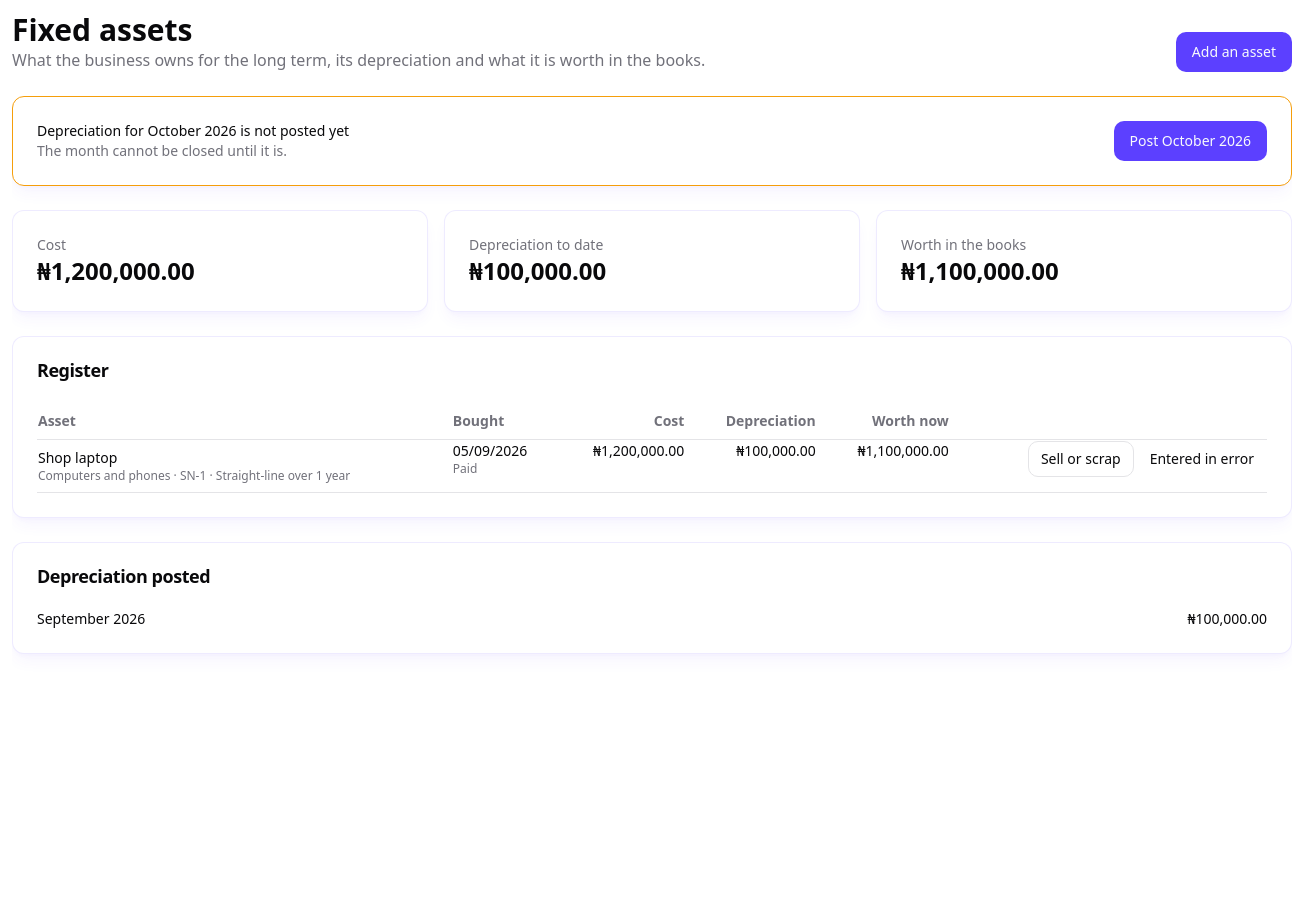
Test case: the owner removes an asset entered in error, with a reason
Click the button "Entered in error" at (1202, 459), box [1138,441,1266,477]
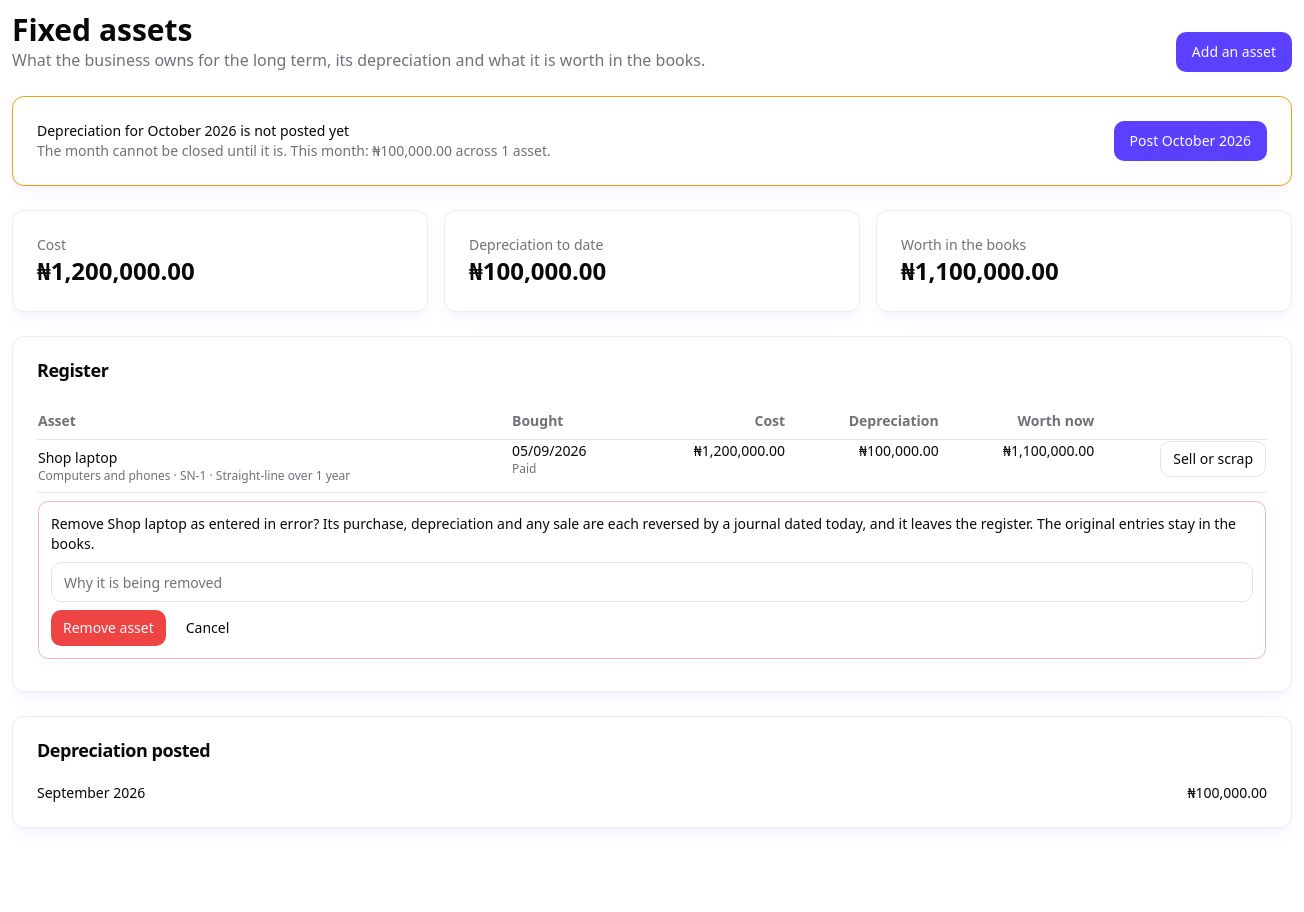
Type "Entered twice" into the field labelled "Why it is being removed" at (652, 582), box [51,562,1253,602]
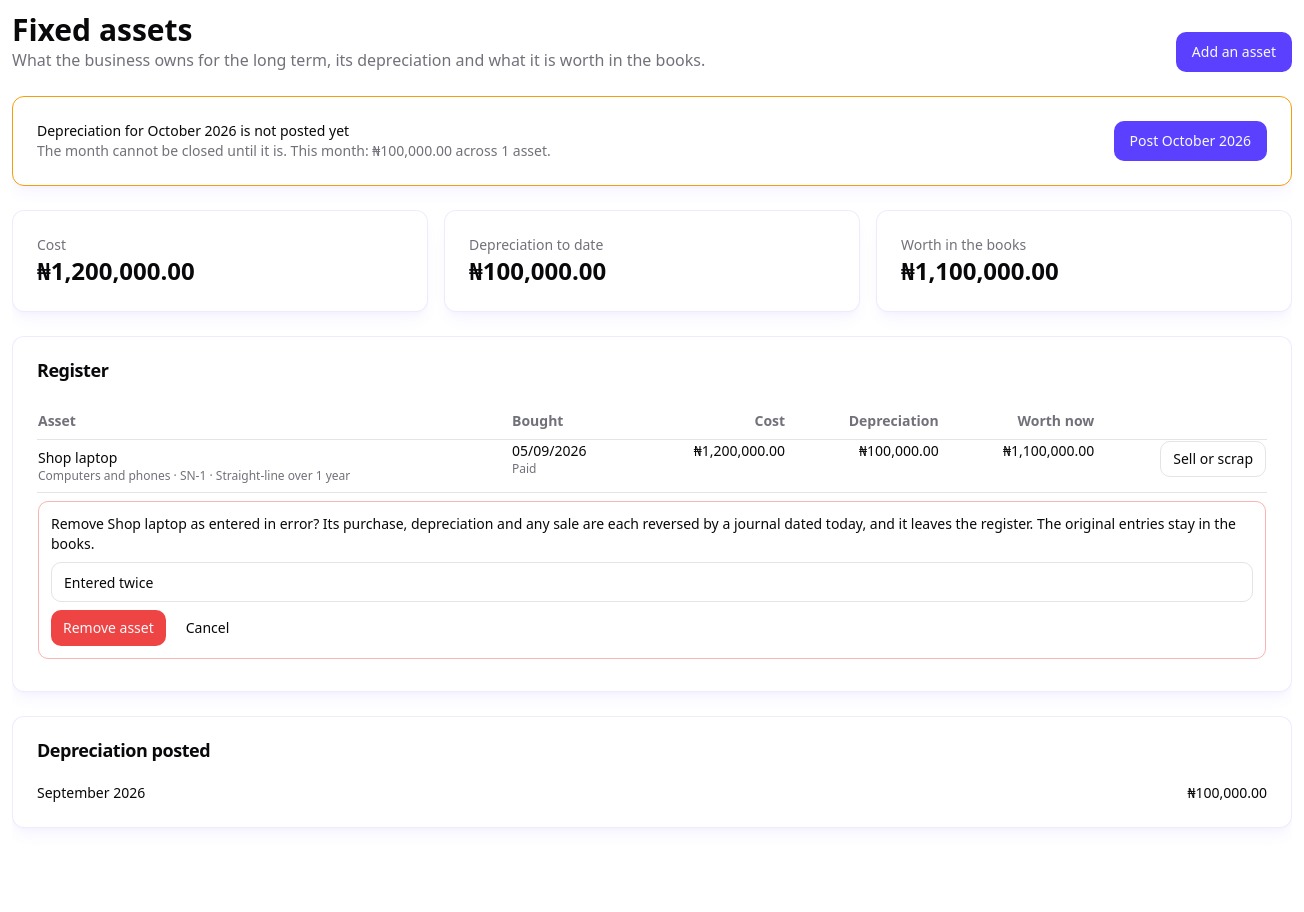
Click the button "Remove asset" at (108, 628), box [51,610,166,646]
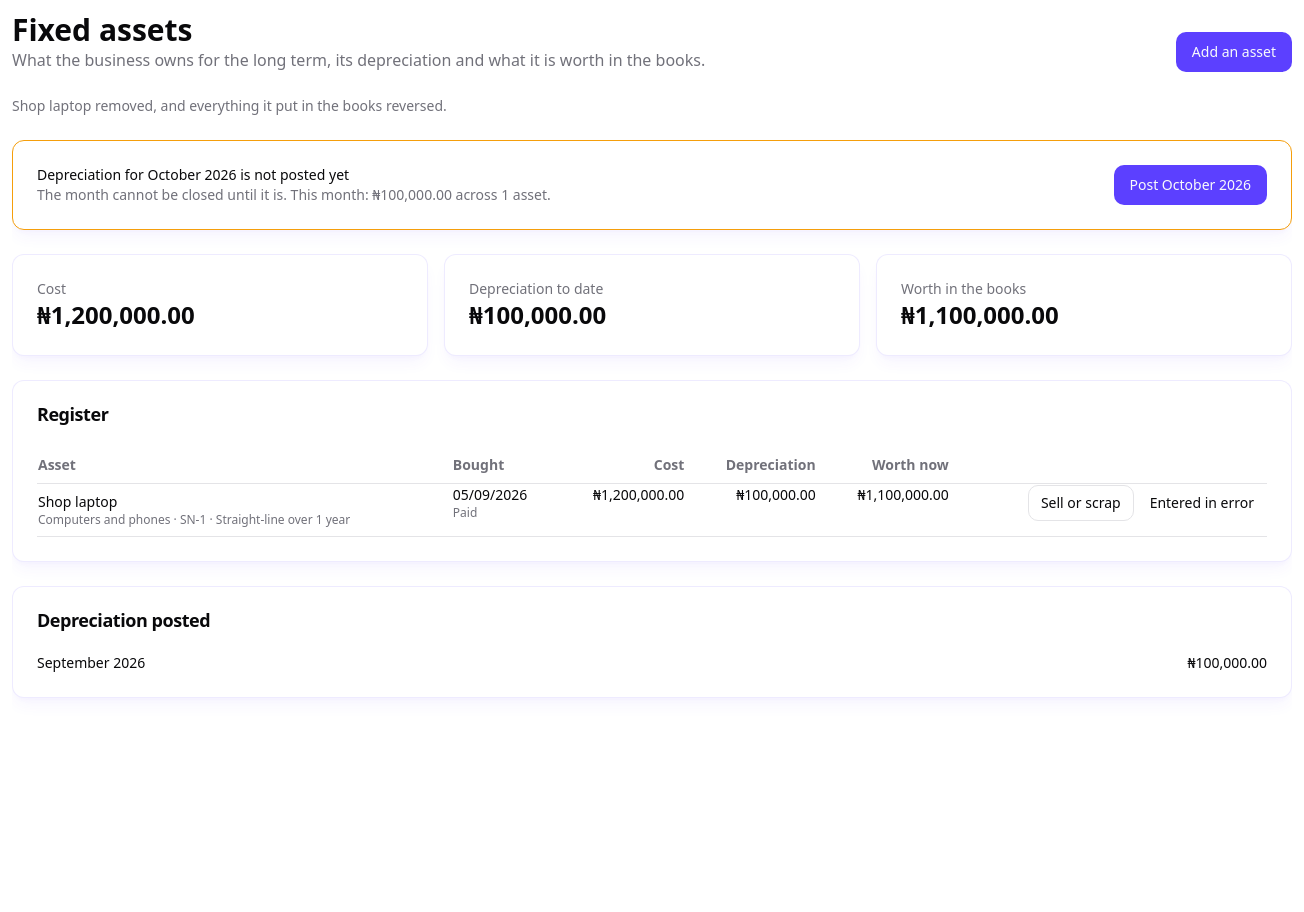
Expected: the message reads "Shop laptop removed, and everything it put in the books reversed.", [12,96,447,115]
